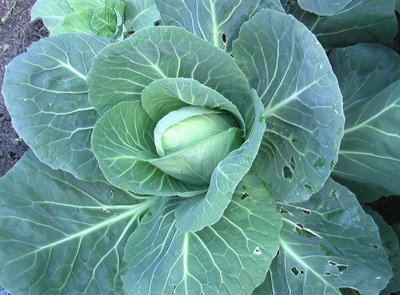cabbage: (150, 101, 232, 166)
